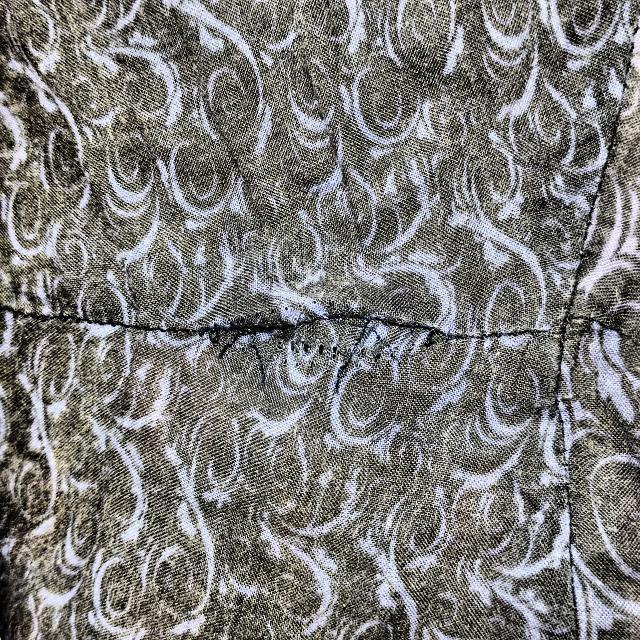seam: (160, 261, 472, 402)
